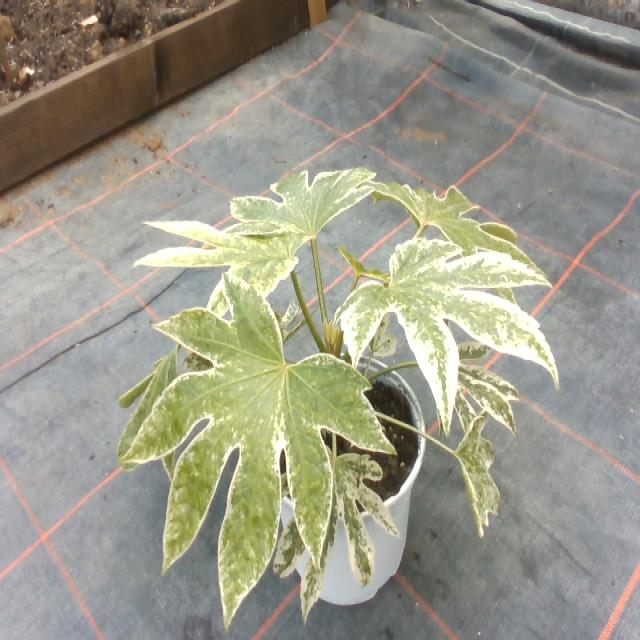Fatsia-japonica: (127, 245, 389, 619), (318, 228, 549, 404), (272, 416, 422, 615), (360, 155, 539, 308), (130, 191, 329, 322), (210, 162, 389, 248), (416, 318, 536, 438), (452, 406, 508, 532), (341, 238, 390, 292)
